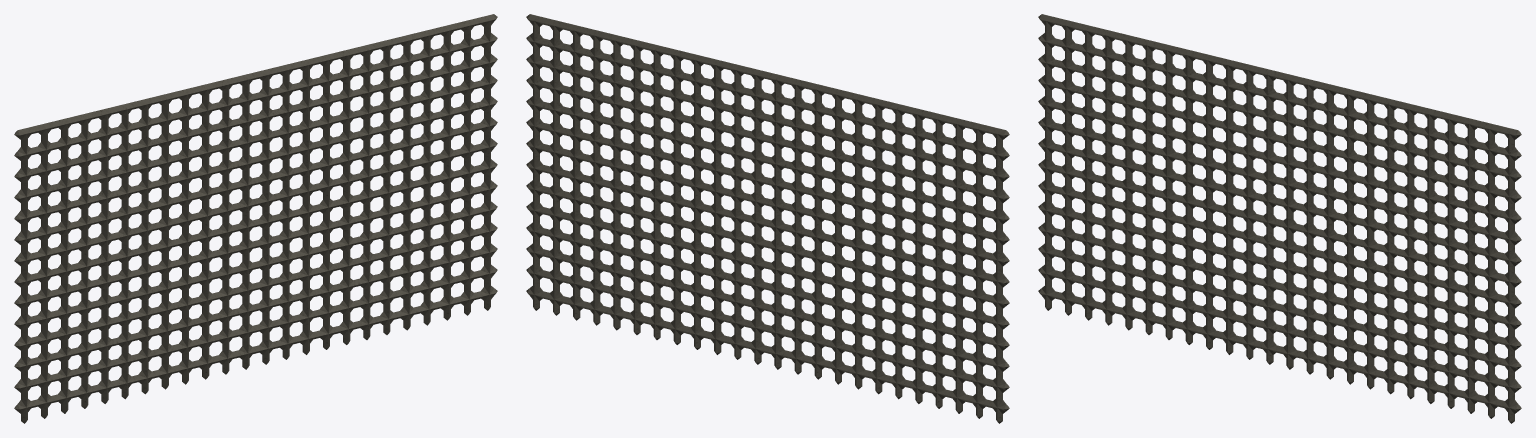
File: CastleGate.fbx
The picture shows the model from 3 angles, left to right: view 1: azimuth 30°, elevation 25°; view 2: azimuth 150°, elevation 25°; view 3: azimuth 330°, elevation 25°; orthographic projection.
Parts seen in each view (by area): view 1: BranaMrezova; view 2: BranaMrezova; view 3: BranaMrezova.
Part boxes in pixels (<box>): BranaMrezova: <box>14,14,497,423</box>; BranaMrezova: <box>526,14,1009,423</box>; BranaMrezova: <box>1038,14,1521,423</box>.
Bounding box in the file's own units: 1714 × 1000 × 26.43.
